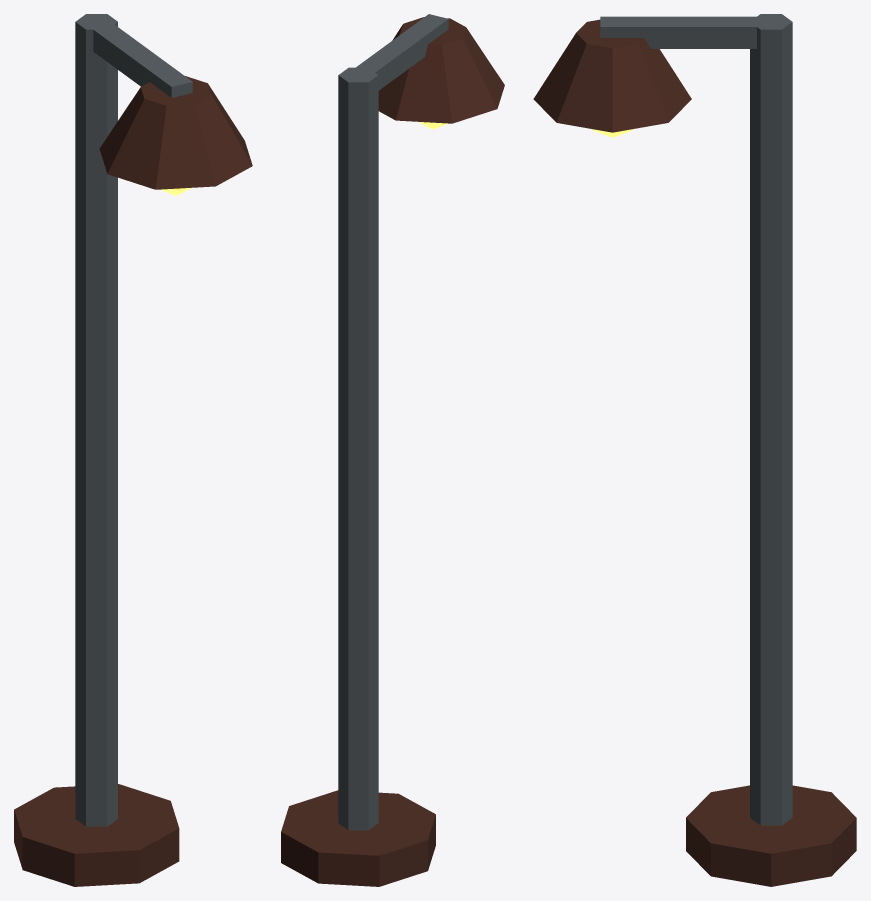
File: deco_lamp.glb
3 renders of one model, left to right at view 1: azimuth 30°, elevation 25°; view 2: azimuth 150°, elevation 25°; view 3: azimuth 270°, elevation 25°, orthographic. The views are drawn at different scales.
Visible parts, largest first — view 1: post, foot, shade, arm; view 2: post, foot, shade, arm; view 3: post, foot, shade, arm.
Part boxes in pixels (x1,y1,x2,y2): post: (75, 14, 117, 826); foot: (14, 784, 179, 886); shade: (99, 76, 252, 189); arm: (80, 15, 192, 97); post: (338, 67, 378, 830); foot: (281, 790, 435, 886); shade: (378, 17, 504, 123); arm: (343, 14, 448, 90); post: (750, 14, 792, 825); foot: (686, 785, 856, 886); shade: (533, 19, 691, 132); arm: (600, 16, 783, 48).
Size of the model in its own units: 0.28 by 1.5 by 0.53.
